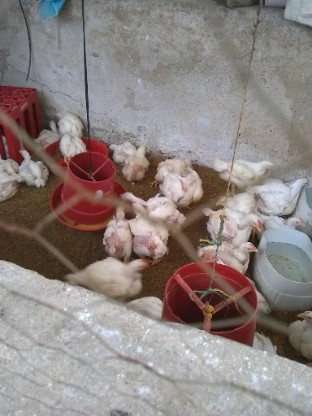Pollos: (60, 256, 150, 298), (128, 204, 173, 262), (200, 202, 260, 244), (255, 172, 310, 215), (117, 188, 186, 222), (203, 152, 268, 187), (199, 239, 262, 272), (12, 140, 52, 190), (99, 204, 136, 255), (125, 287, 175, 323), (163, 173, 206, 212), (286, 303, 312, 364), (151, 152, 194, 187), (122, 140, 156, 180), (215, 187, 255, 217), (249, 323, 282, 358), (60, 136, 96, 168), (54, 109, 90, 138), (0, 148, 16, 210), (276, 202, 305, 235), (31, 115, 62, 145), (103, 135, 133, 162), (204, 253, 226, 269)
